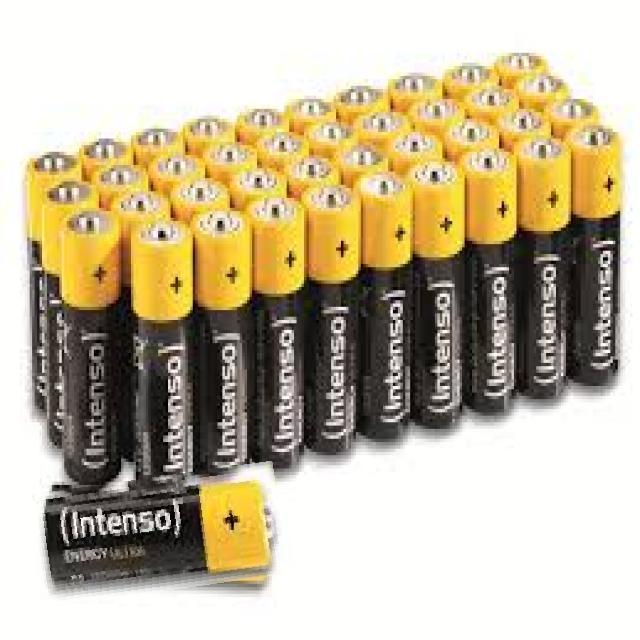Battery: (36, 481, 293, 595), (63, 203, 132, 487), (126, 219, 196, 498), (130, 211, 197, 488), (246, 195, 311, 477), (301, 178, 364, 464), (564, 126, 626, 397), (408, 158, 466, 439), (515, 139, 575, 408), (465, 146, 521, 427), (26, 152, 83, 421), (362, 173, 414, 448), (170, 108, 238, 155), (325, 82, 393, 128), (441, 110, 509, 152), (110, 184, 172, 224), (542, 94, 607, 132), (130, 117, 193, 156), (387, 65, 445, 106), (224, 162, 289, 198), (97, 161, 155, 200), (144, 151, 204, 187), (172, 180, 235, 214), (387, 69, 446, 105), (494, 44, 555, 78), (442, 58, 498, 94), (282, 95, 338, 129), (517, 73, 572, 107), (233, 106, 288, 138), (412, 100, 472, 129), (81, 135, 135, 163)
